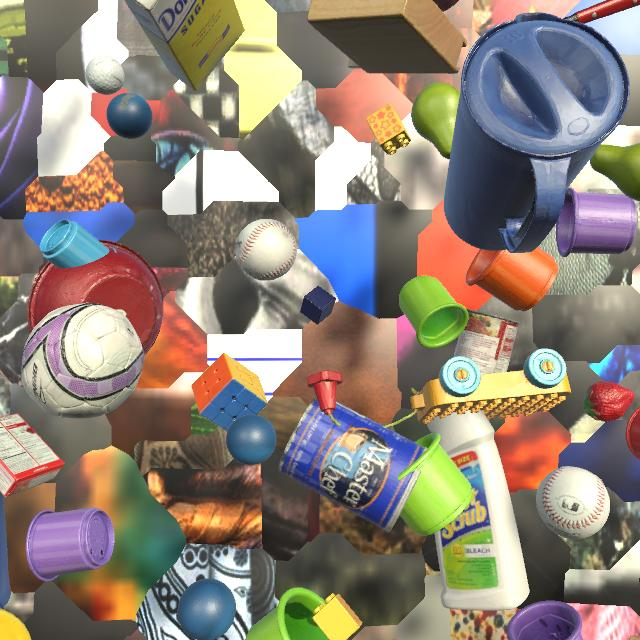ycb_002_master_chef_can: (278, 396, 427, 532)
ycb_004_sugar_box: (124, 0, 245, 91)
ycb_005_tomato_soup_can: (453, 309, 519, 374)
ycb_006_mustard_bottle: (0, 608, 31, 640)
ycb_009_gelatin_box: (0, 413, 64, 498)
ycb_012_strawberry: (583, 381, 635, 422)
ycb_016_pear: (411, 82, 460, 159), (590, 143, 640, 201)
